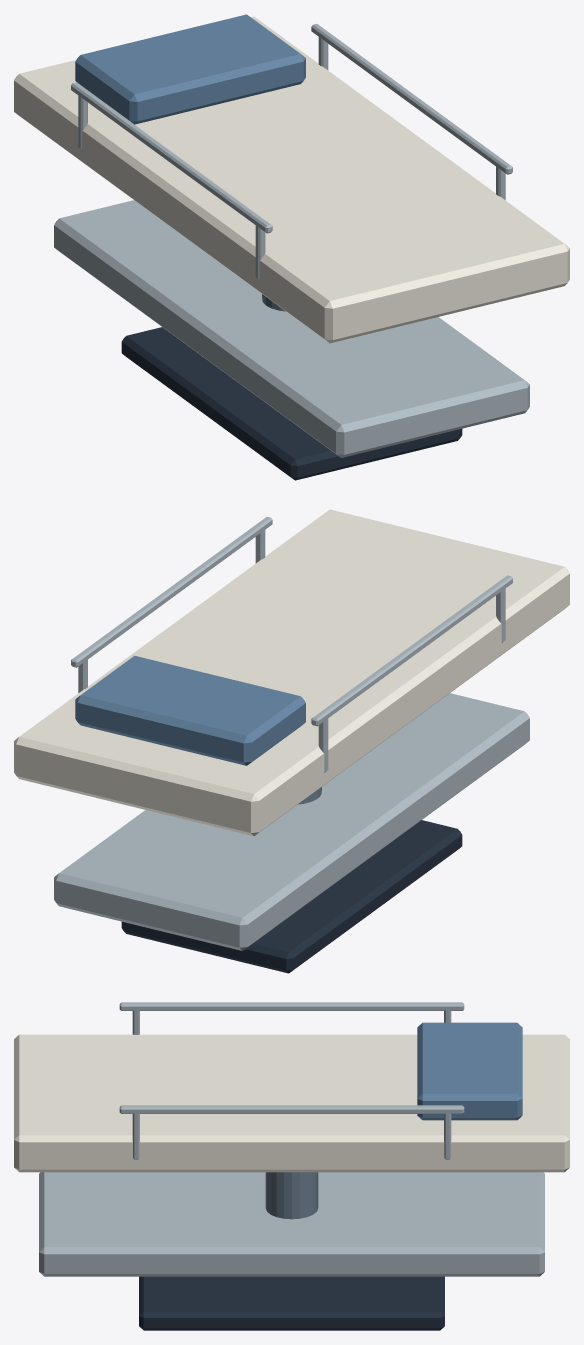
Rendered from medical_01.glb.
The picture shows the model from 3 angles, top to bottom: view 1: azimuth 30°, elevation 25°; view 2: azimuth 150°, elevation 25°; view 3: azimuth 270°, elevation 25°; orthographic projection. The views are drawn at different scales.
Parts seen in each view (by area): view 1: Mattress, Chassis, Pillow, FloorBase, SafetyRail (×2); view 2: Mattress, Chassis, Pillow, FloorBase, SafetyRail (×2); view 3: Mattress, Chassis, FloorBase, Pillow, SafetyRail (×2), LiftColumn.
Boxes of the visible parts, x1,y1,x2,y2 form: Mattress: (14, 16, 569, 343); Chassis: (54, 200, 529, 457); Pillow: (75, 14, 305, 124); FloorBase: (121, 327, 462, 480); SafetyRail (×2): (71, 24, 512, 233); Mattress: (14, 509, 569, 836); Chassis: (54, 693, 529, 950); Pillow: (75, 655, 305, 765); FloorBase: (121, 820, 462, 973); SafetyRail (×2): (71, 516, 512, 726); Mattress: (14, 1034, 569, 1172); Chassis: (39, 1172, 544, 1276); FloorBase: (139, 1276, 444, 1330); Pillow: (417, 1022, 522, 1120); SafetyRail (×2): (119, 1002, 464, 1113); LiftColumn: (265, 1172, 318, 1219).
Bounding box in the file's own units: 0.859 × 0.908 × 1.9.
